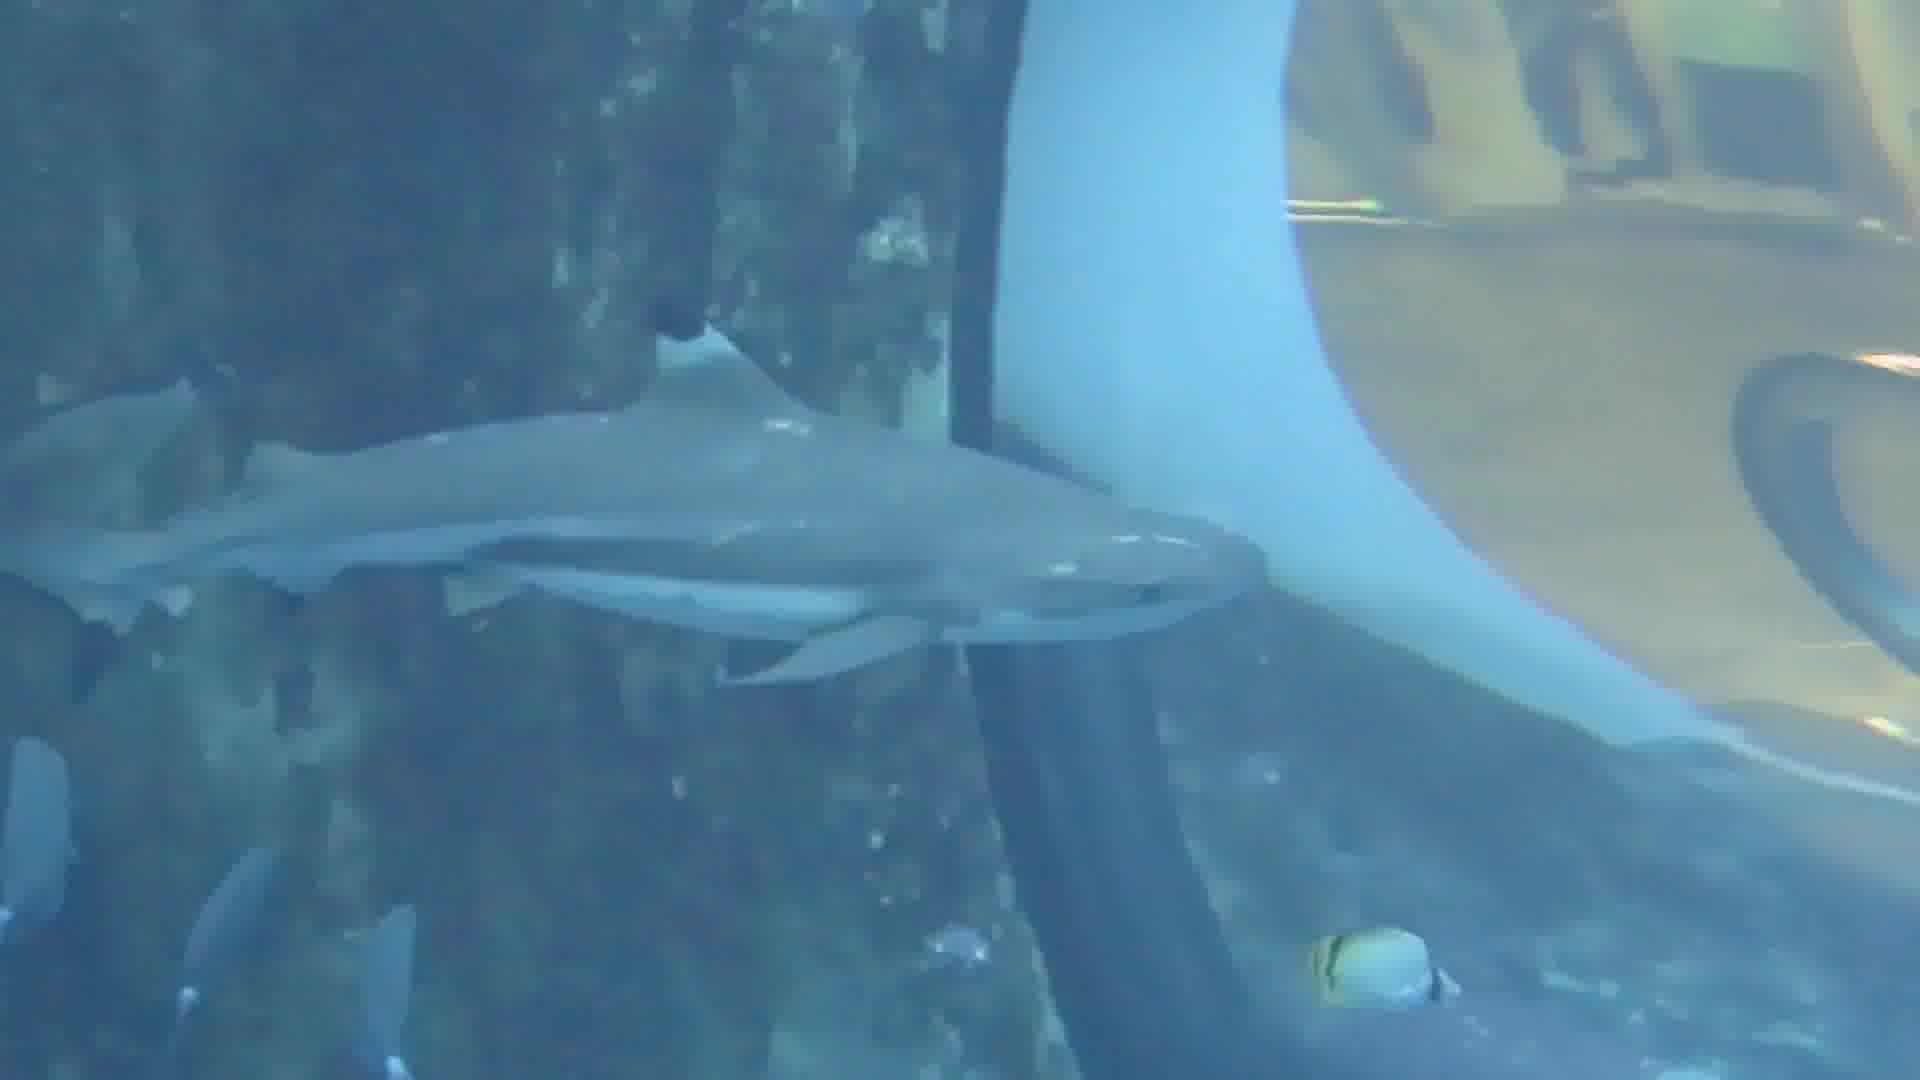Carcharhinus melanopterus: (61, 290, 1295, 738)
